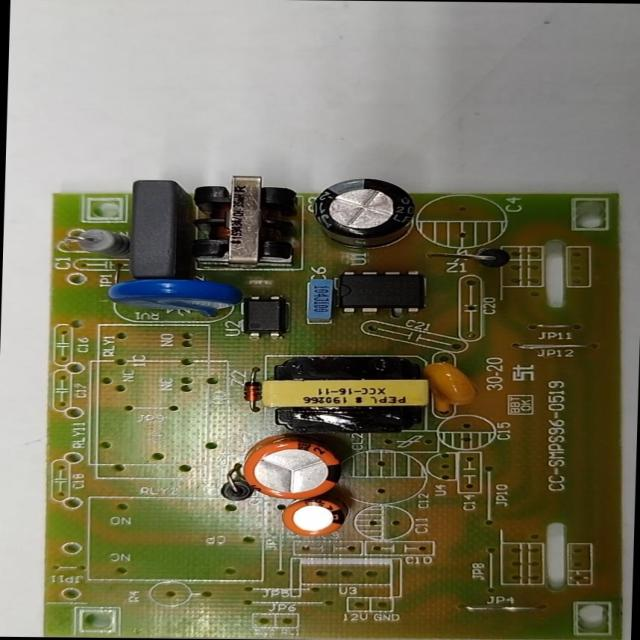Cap1: (242, 434, 342, 500)
Cap2: (279, 500, 343, 538)
Cap3: (313, 178, 413, 252)
MOSFET: (337, 270, 422, 311)
Mov: (108, 280, 240, 314)
Resistor: (66, 228, 130, 256)
Transformer: (256, 354, 430, 431), (190, 173, 296, 265)
